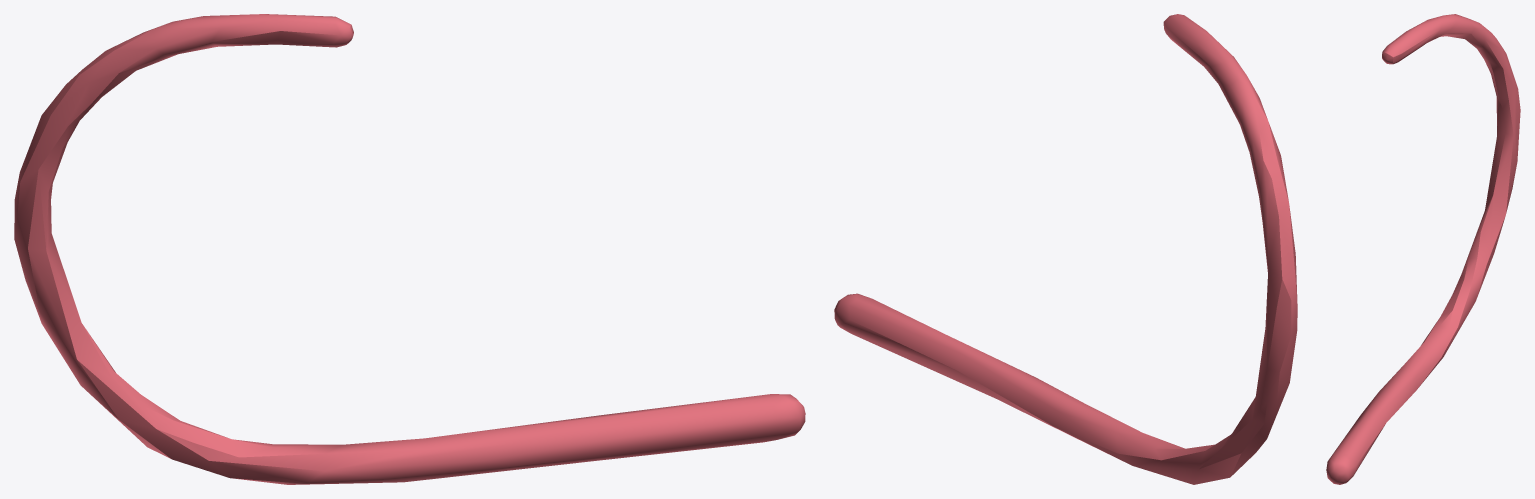
Rendered from fma75856_fj3414.glb.
The picture shows the model from 3 angles, left to right: view 1: azimuth 30°, elevation 25°; view 2: azimuth 150°, elevation 25°; view 3: azimuth 270°, elevation 25°; orthographic projection. The views are drawn at different scales.
Parts seen in each view (by area): view 1: FMA75856_FJ3414; view 2: FMA75856_FJ3414; view 3: FMA75856_FJ3414.
Part boxes in pixels (x1,y1,x2,y2): FMA75856_FJ3414: (14,14,805,484); FMA75856_FJ3414: (834,14,1297,484); FMA75856_FJ3414: (1326,14,1520,484).
Size of the model in its own units: 0.0463 by 0.0337 by 0.0187.
